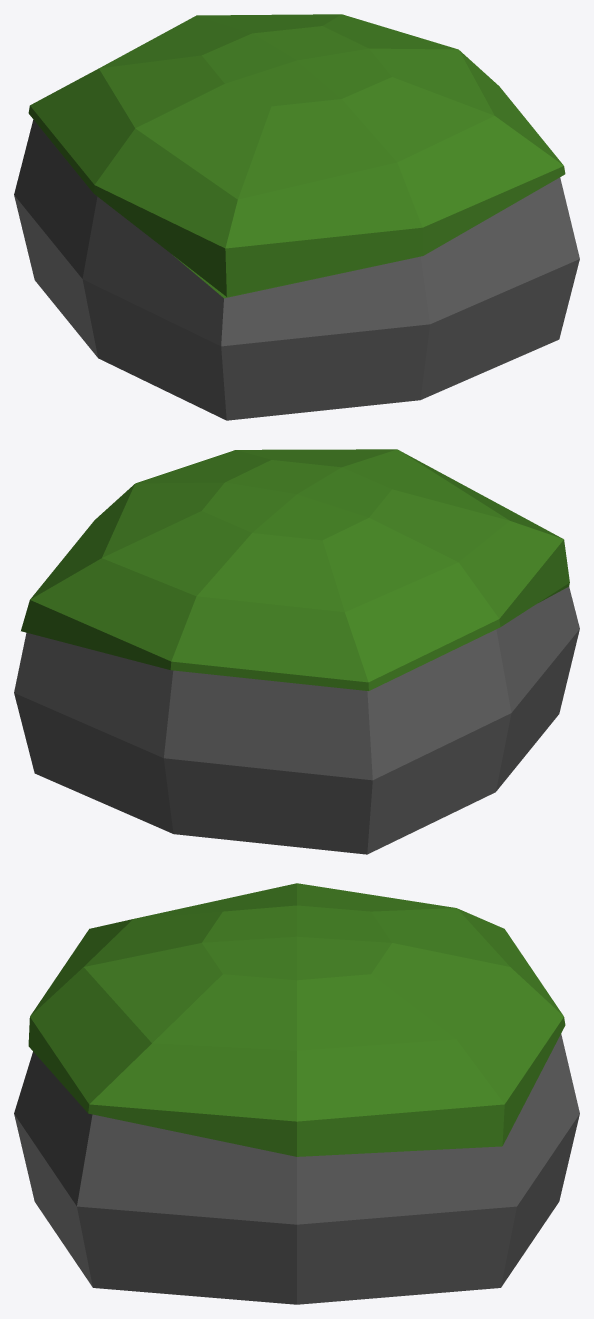
The model's file is Mossy Rock.fbx.
3 renders of one model, top to bottom at view 1: azimuth 30°, elevation 25°; view 2: azimuth 150°, elevation 25°; view 3: azimuth 270°, elevation 25°, orthographic. The views are drawn at different scales.
Parts seen in each view (by area): view 1: Mossy Rock; view 2: Mossy Rock; view 3: Mossy Rock.
Boxes of the visible parts, box(x1,y1,x2,y2) form: Mossy Rock: box(14, 14, 579, 420); Mossy Rock: box(14, 449, 579, 854); Mossy Rock: box(14, 883, 579, 1304).
Size of the model in its own units: 258 by 143 by 277.
